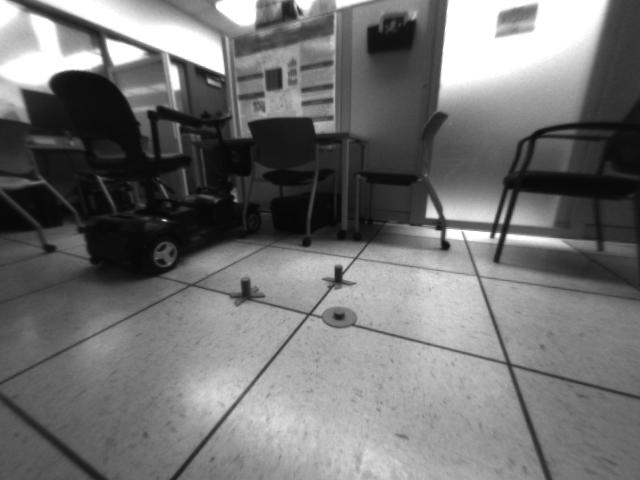X: (230, 277, 265, 306), (322, 261, 354, 290)
